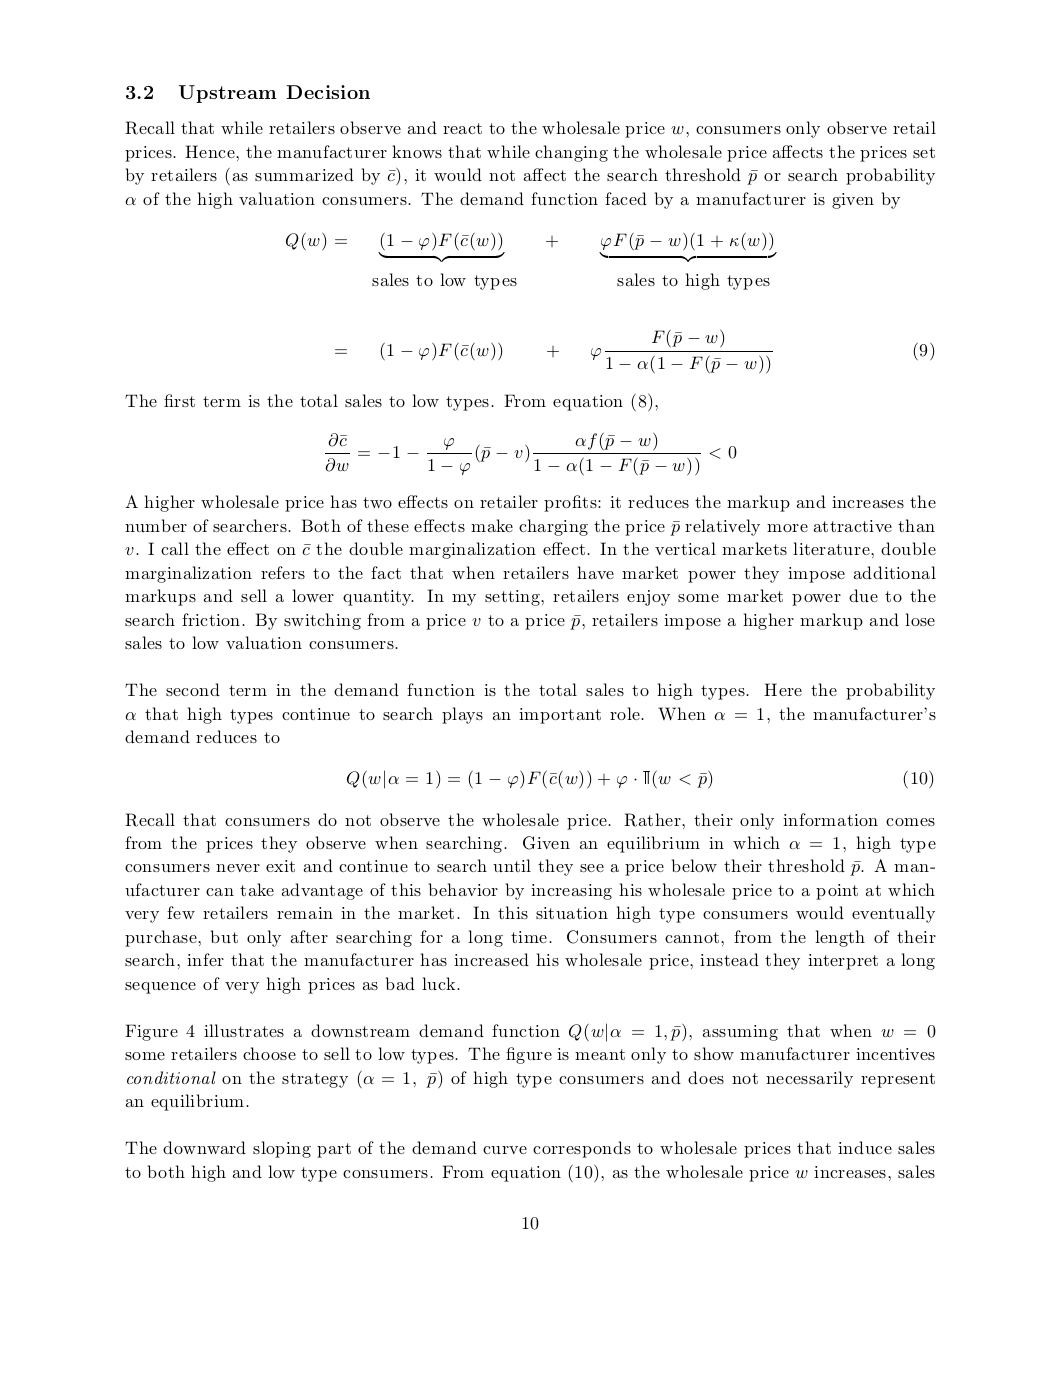formula: (335, 328, 934, 374), (285, 232, 776, 289), (325, 431, 736, 476), (345, 769, 933, 789)
